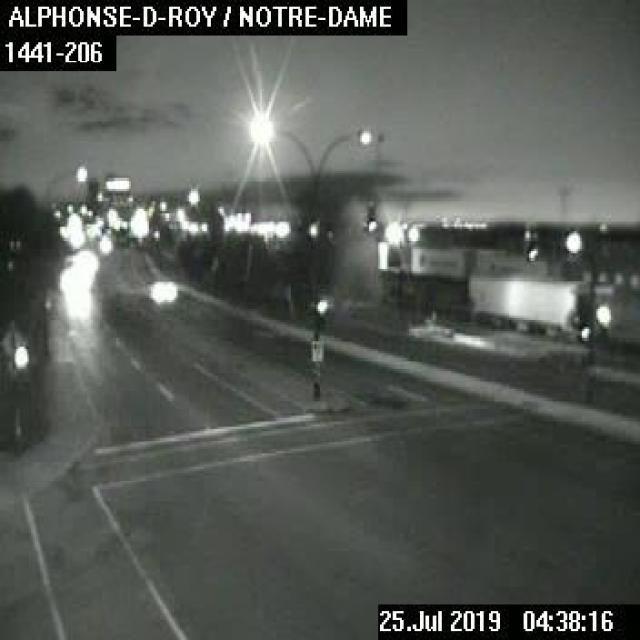vehicle: (145, 274, 178, 304)
